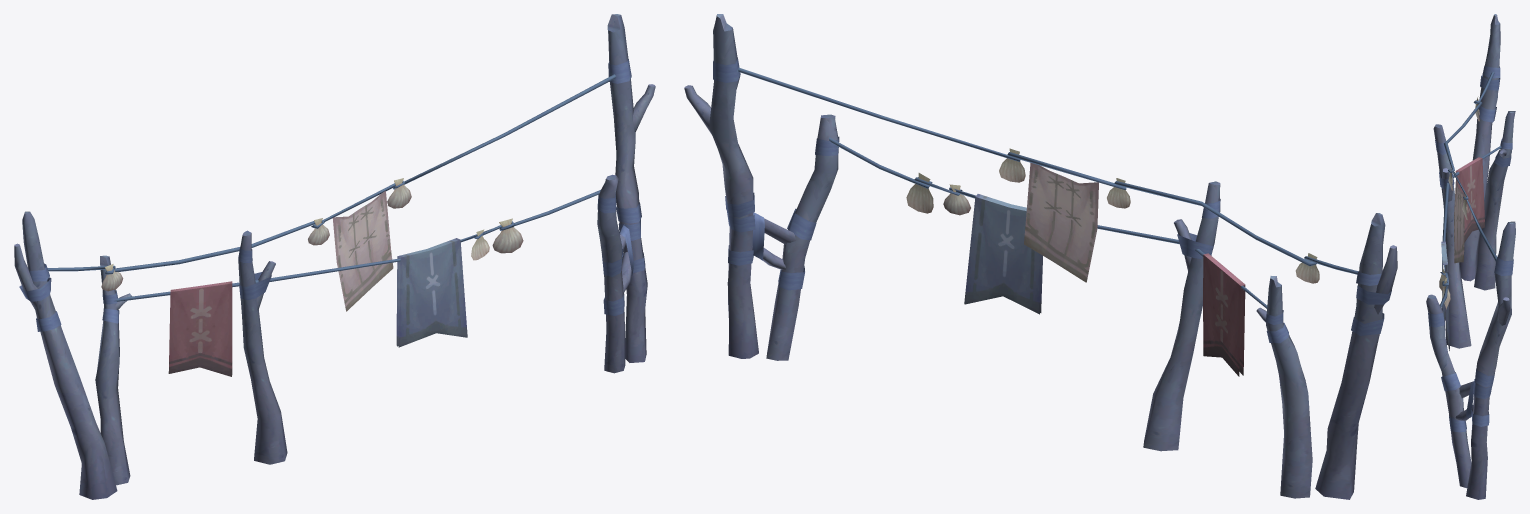
The model's file is Homeworld_Exterior_Fd_Decoration_Prop_RycWeilan_01_Lod0.fbx.
3 renders of one model, left to right at view 1: azimuth 30°, elevation 25°; view 2: azimuth 150°, elevation 25°; view 3: azimuth 270°, elevation 25°, orthographic. The views are drawn at different scales.
Parts seen in each view (by area): view 1: Area_Fd_Prop_RYC_Rywujian_02_Lod0; view 2: Area_Fd_Prop_RYC_Rywujian_02_Lod0; view 3: Area_Fd_Prop_RYC_Rywujian_02_Lod0.
Part boxes in pixels (<box>): Area_Fd_Prop_RYC_Rywujian_02_Lod0: <box>14,14,655,499</box>; Area_Fd_Prop_RYC_Rywujian_02_Lod0: <box>684,14,1397,499</box>; Area_Fd_Prop_RYC_Rywujian_02_Lod0: <box>1426,14,1515,499</box>.
Bounding box in the file's own units: 4.61 × 2.23 × 0.6611.
1 material, 1 textured.
